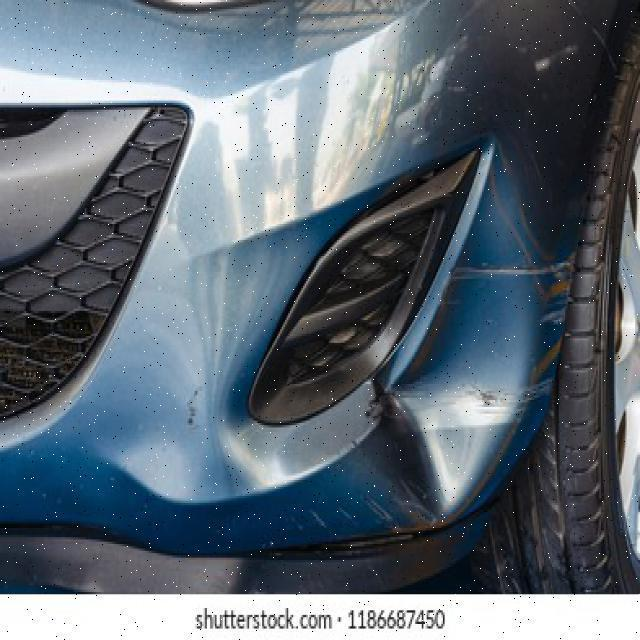front-bumper-dent: (12, 84, 590, 544)
